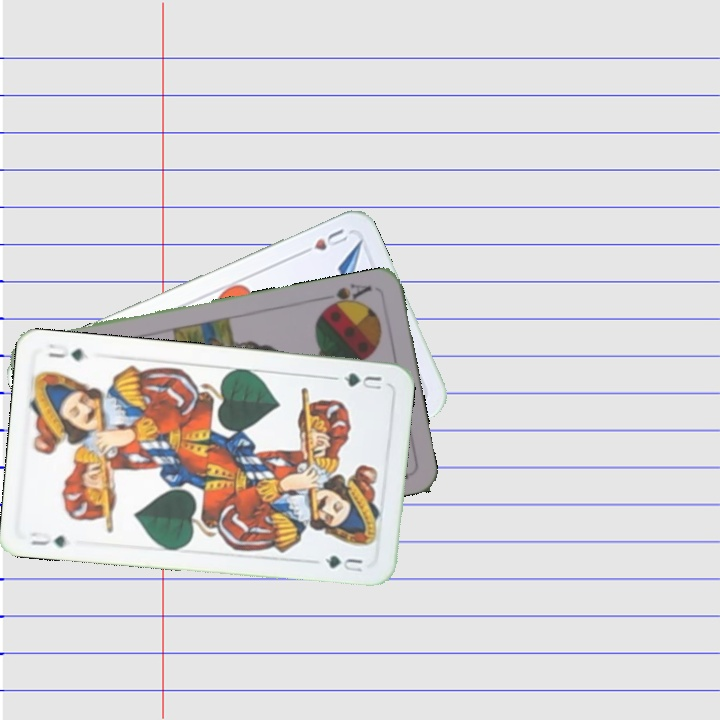GU: (27, 527, 74, 551), (339, 369, 384, 392)
HU: (294, 224, 351, 259)
SA: (320, 280, 374, 313)
